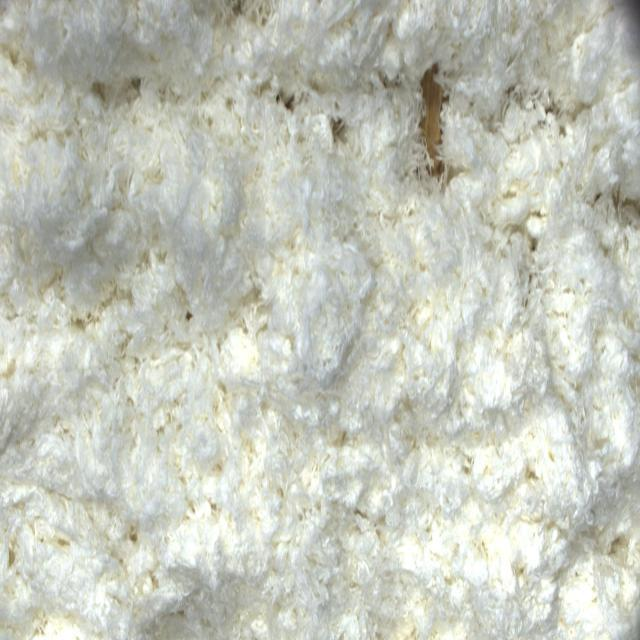dust: (423, 50, 450, 196)
